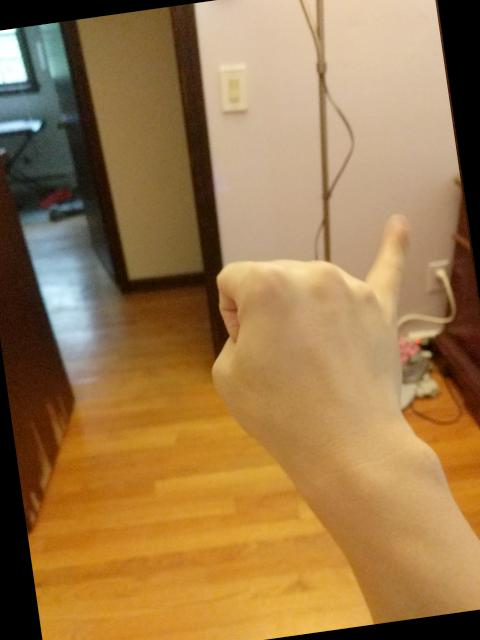J: (185, 201, 452, 478)
